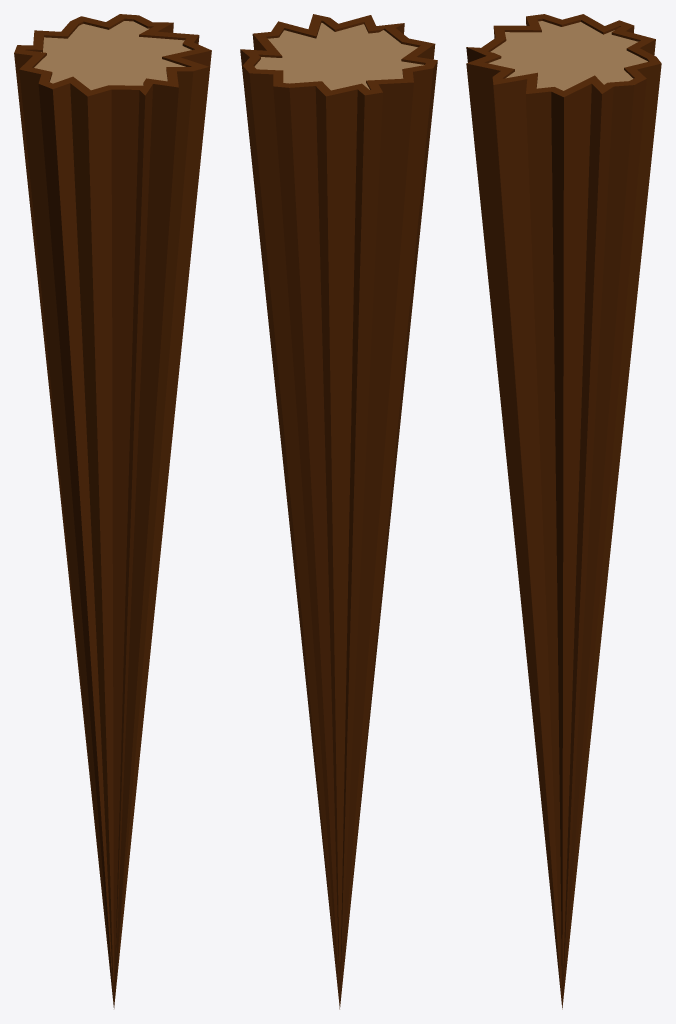
File: pieux.fbx
3 renders of one model, left to right at view 1: azimuth 30°, elevation 25°; view 2: azimuth 150°, elevation 25°; view 3: azimuth 270°, elevation 25°, orthographic.
Visible parts, largest first — view 1: Cylinder; view 2: Cylinder; view 3: Cylinder.
Part boxes in pixels (<box>): Cylinder: <box>14,14,211,1008</box>; Cylinder: <box>240,14,437,1009</box>; Cylinder: <box>466,14,661,1009</box>.
Bounding box in the file's own units: 59.82 × 319 × 59.24.
